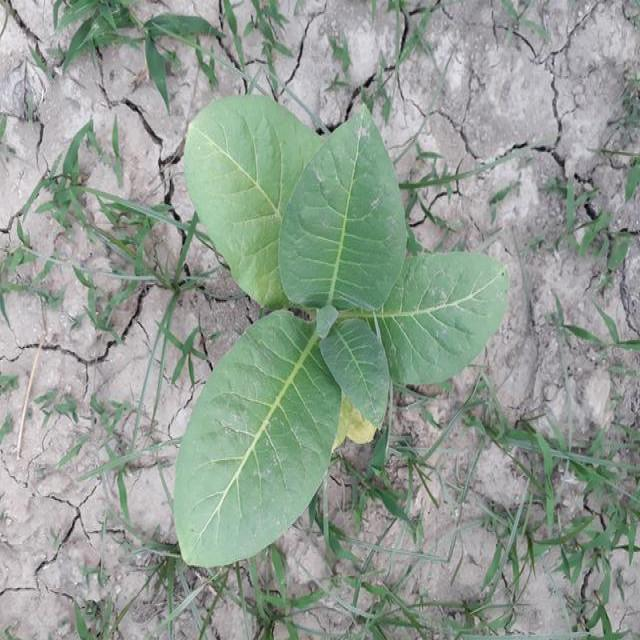crop: (175, 84, 510, 568)
